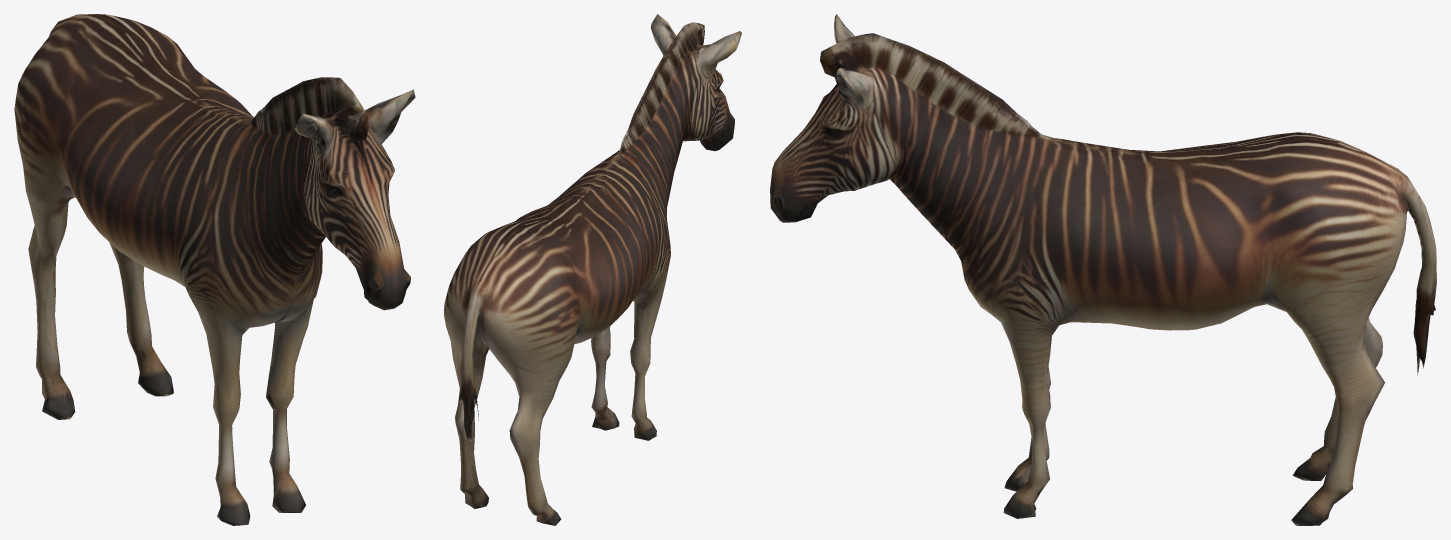
The model's file is quagga.glb.
The picture shows the model from 3 angles, left to right: view 1: azimuth 30°, elevation 25°; view 2: azimuth 150°, elevation 25°; view 3: azimuth 270°, elevation 25°; orthographic projection. The views are drawn at different scales.
Parts seen in each view (by area): view 1: Object_4; view 2: Object_4; view 3: Object_4.
Part boxes in pixels (x1=…): Object_4: x1=14, y1=14, x2=415, y2=525; Object_4: x1=444, y1=14, x2=741, y2=525; Object_4: x1=770, y1=14, x2=1436, y2=525.
Bounding box in the file's own units: 0.5512 × 1.53 × 1.98.
1 material, 1 textured.
